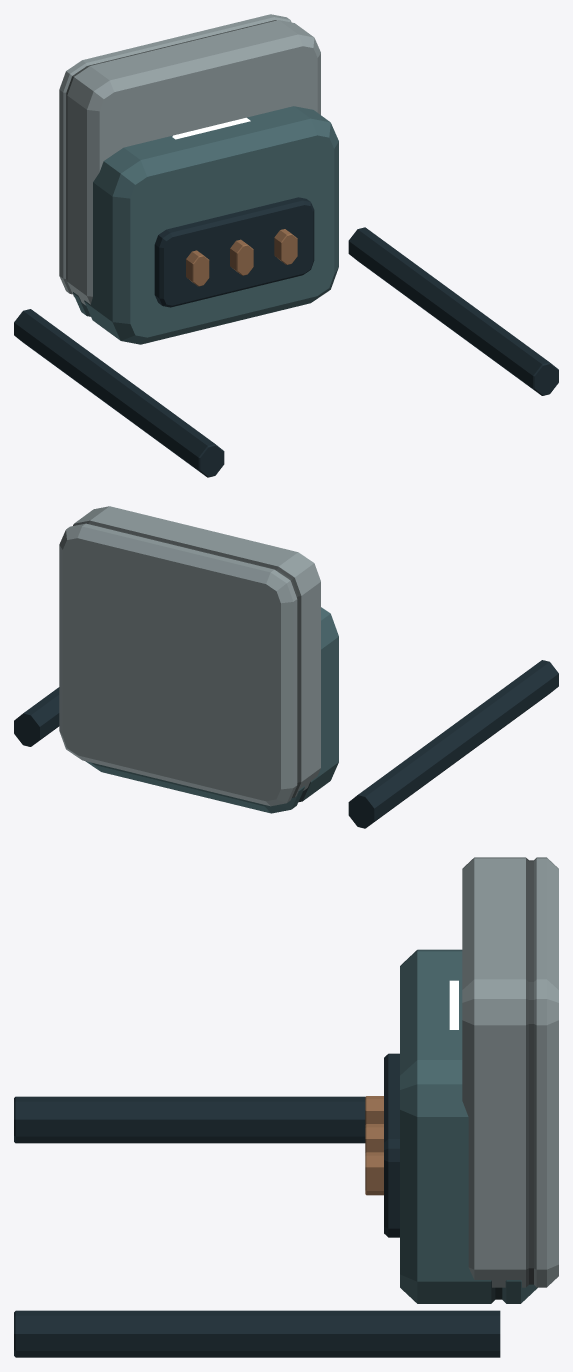
The model's file is SF-04_shuttle_cradle.glb.
3 renders of one model, top to bottom at view 1: azimuth 30°, elevation 25°; view 2: azimuth 150°, elevation 25°; view 3: azimuth 270°, elevation 25°, orthographic. The views are drawn at different scales.
Visible parts, largest first — view 1: SF-04_shuttle_cradle; view 2: SF-04_shuttle_cradle; view 3: SF-04_shuttle_cradle.
Part boxes in pixels (bbox=[...]): SF-04_shuttle_cradle: bbox=[14, 14, 558, 477]; SF-04_shuttle_cradle: bbox=[14, 506, 558, 828]; SF-04_shuttle_cradle: bbox=[14, 857, 558, 1357].
Bounding box in the file's own units: 2.37 × 1.58 × 2.37.
